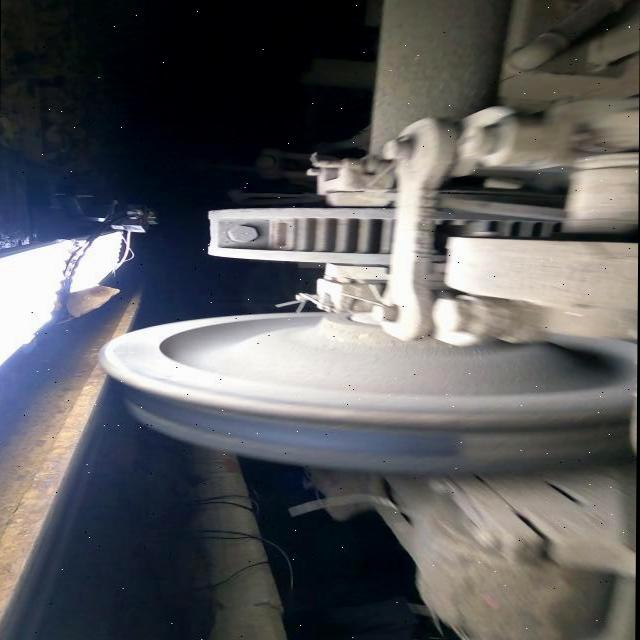Shelling: (461, 419, 626, 463)
Wheel: (98, 312, 634, 472)
